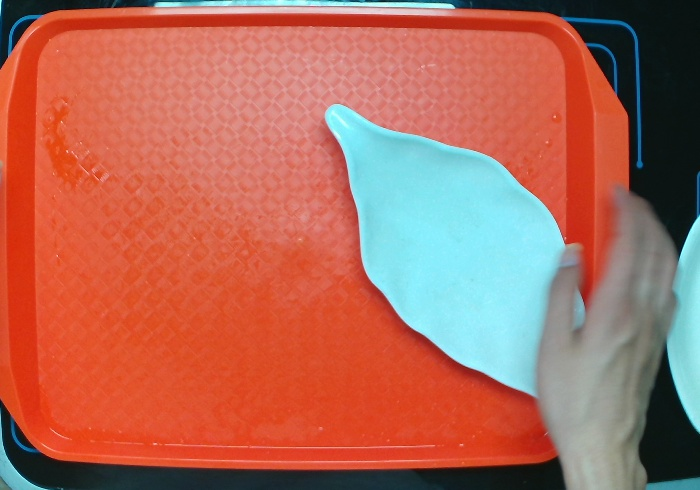RJxy-Shu_Ye_Pan: (318, 98, 609, 417)
